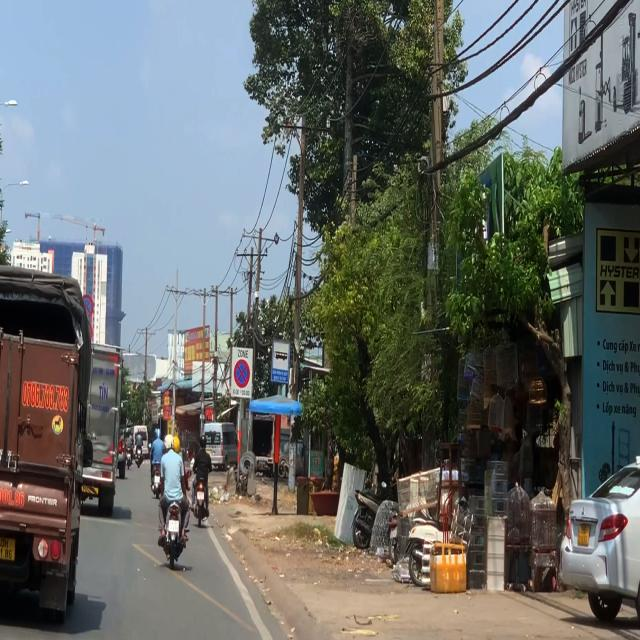Ben xe buyt: (270, 338, 290, 386)
Cam dung va do: (233, 359, 250, 388)
